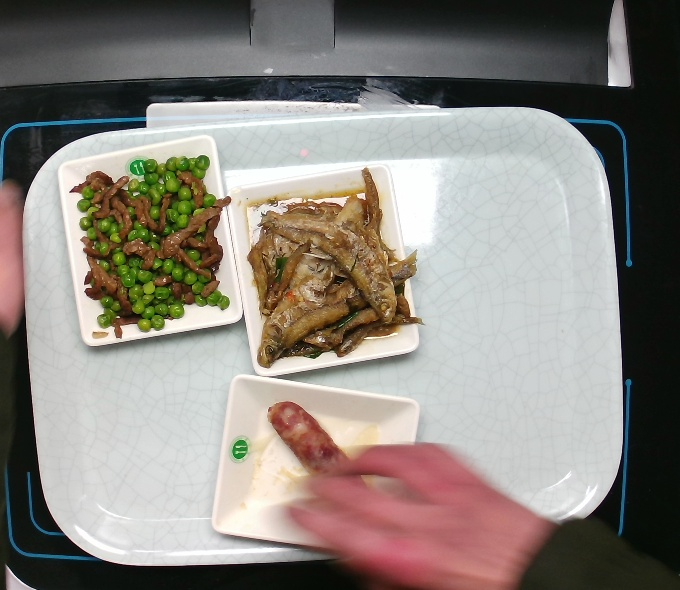wcq-CanDouNiuRou: (64, 152, 236, 348)
wcq-XiaoJiYu: (244, 168, 424, 369)
